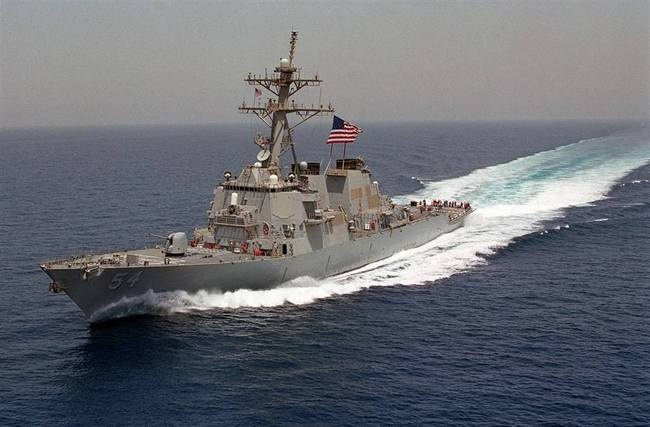warship: (38, 28, 474, 322)
